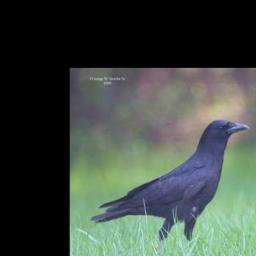Crow: (89, 118, 248, 253)
